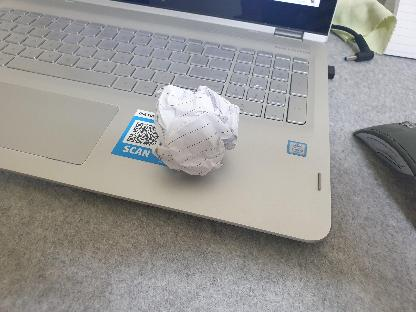Paper: (141, 76, 245, 181)
